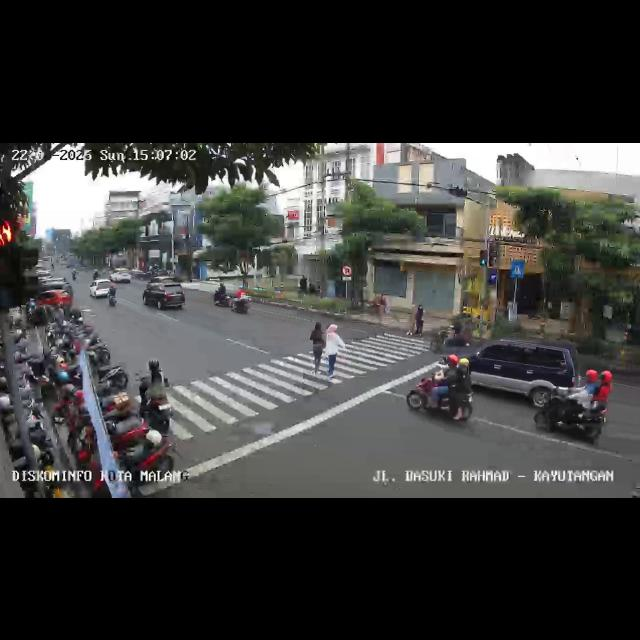car: (468, 337, 580, 405), (141, 278, 187, 312), (33, 276, 73, 312), (90, 275, 118, 301)
motorcycle: (532, 378, 608, 442), (408, 358, 476, 426), (442, 316, 473, 352), (233, 284, 251, 314), (213, 282, 229, 310), (106, 280, 118, 308)
person: (139, 358, 169, 417), (324, 322, 348, 380), (308, 318, 326, 380), (416, 304, 424, 336)
